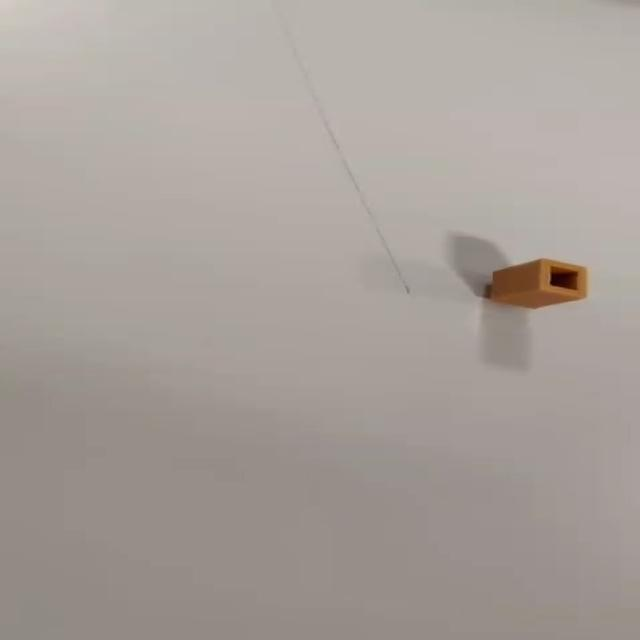C1x1x1: (486, 257, 588, 309)
